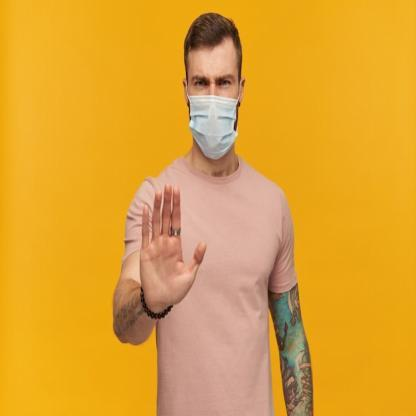stop: (138, 178, 209, 310)
